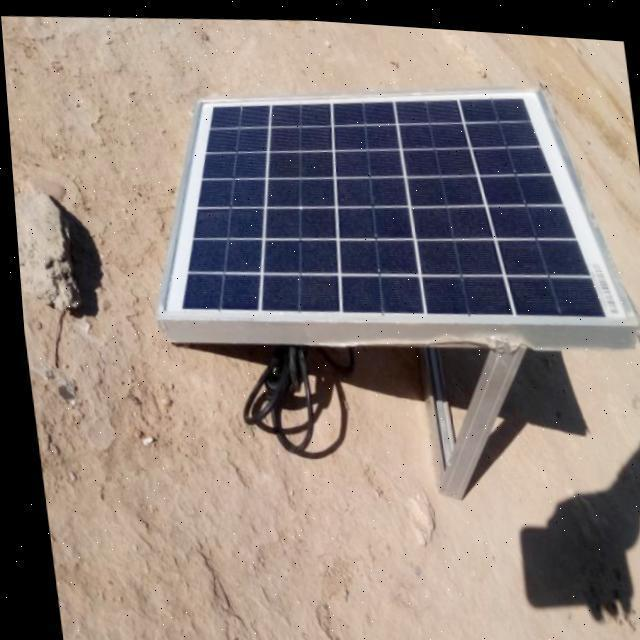Normal Solar Panel: (123, 52, 632, 346)
